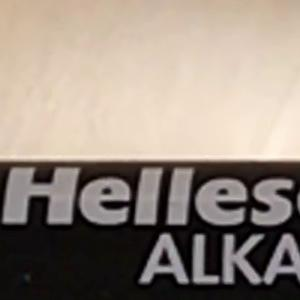keyword: (131, 225, 260, 293)
